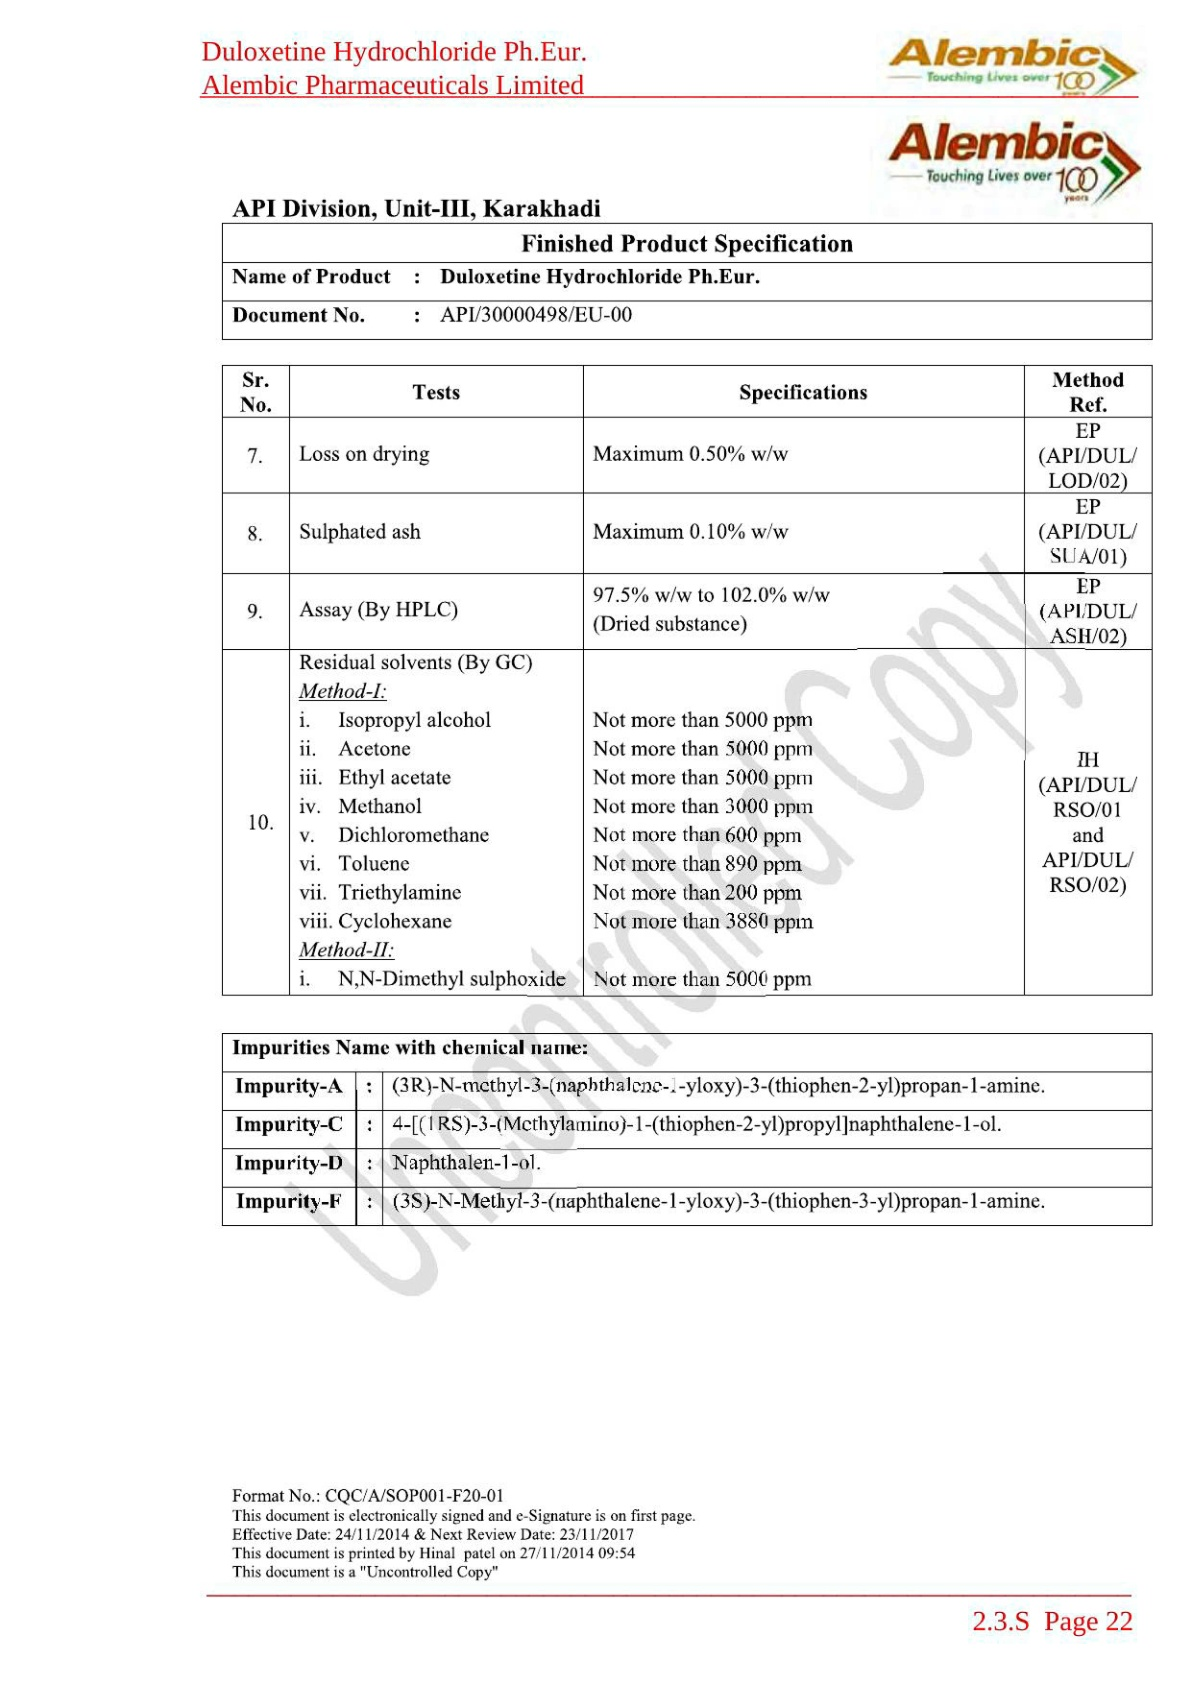full_lined: (221, 364, 1155, 997), (221, 222, 1155, 342)
merged_cells: (221, 1032, 1153, 1228)
